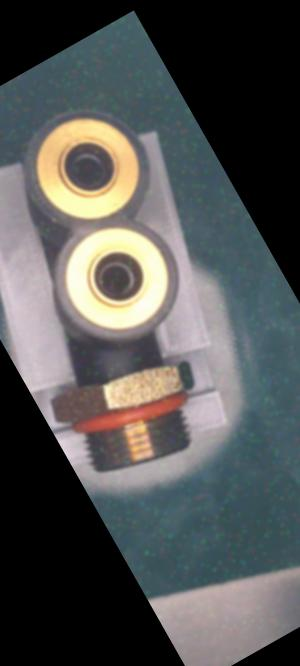white mark: (113, 363, 129, 379)
